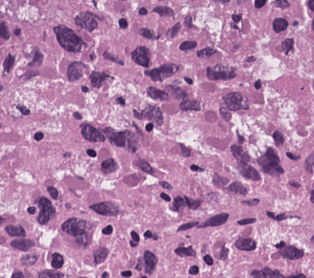nucleus: (53, 24, 86, 52), (257, 147, 283, 174), (133, 104, 162, 125), (145, 63, 178, 81), (61, 217, 89, 236), (74, 11, 98, 31), (206, 64, 235, 80), (37, 197, 54, 224), (223, 92, 248, 110), (80, 123, 105, 141), (104, 127, 126, 147), (89, 201, 118, 216), (198, 213, 228, 227), (130, 45, 149, 67), (67, 61, 86, 81), (239, 164, 260, 180), (165, 85, 187, 100), (231, 145, 249, 163), (146, 86, 169, 100), (89, 71, 109, 87), (10, 238, 34, 250), (28, 47, 42, 66), (103, 51, 123, 64), (226, 181, 246, 194), (135, 159, 153, 173), (101, 158, 117, 173), (235, 238, 255, 250), (179, 99, 200, 110), (152, 6, 174, 16), (139, 28, 159, 39), (5, 225, 25, 236), (177, 221, 198, 231), (184, 196, 200, 209), (197, 46, 215, 57), (3, 54, 14, 72), (273, 18, 287, 32), (170, 196, 184, 210), (76, 233, 91, 246), (166, 23, 179, 37), (213, 174, 227, 186), (0, 21, 9, 39), (219, 107, 231, 120), (272, 131, 283, 145), (179, 41, 196, 50), (179, 143, 190, 156), (47, 186, 57, 199), (242, 198, 258, 206), (274, 0, 289, 8), (23, 71, 38, 79), (16, 105, 29, 114), (238, 218, 255, 224), (184, 15, 192, 27), (159, 181, 171, 189), (102, 225, 112, 234), (119, 18, 127, 28), (160, 193, 170, 201), (131, 231, 139, 241), (254, 0, 265, 7), (145, 122, 153, 131), (34, 132, 43, 140), (275, 214, 286, 220), (190, 165, 203, 170), (232, 14, 240, 22), (116, 97, 124, 105), (138, 7, 147, 14), (87, 149, 96, 156), (266, 211, 275, 218), (144, 230, 153, 237), (275, 241, 284, 248), (73, 112, 81, 119), (27, 206, 35, 213), (184, 77, 192, 83), (254, 80, 260, 88), (14, 28, 20, 35), (238, 134, 243, 142), (130, 240, 136, 246), (246, 57, 254, 61), (81, 86, 87, 91), (63, 153, 69, 156)
